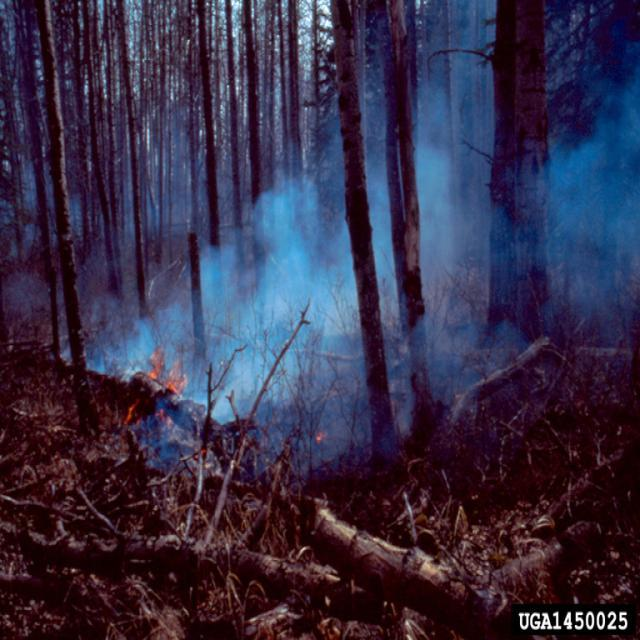Smoke: (82, 0, 640, 479)
